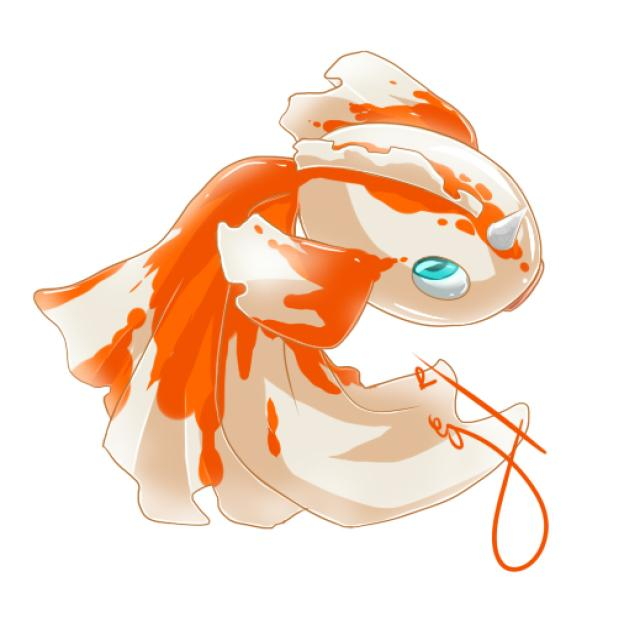Goldeen: (127, 107, 543, 520)
